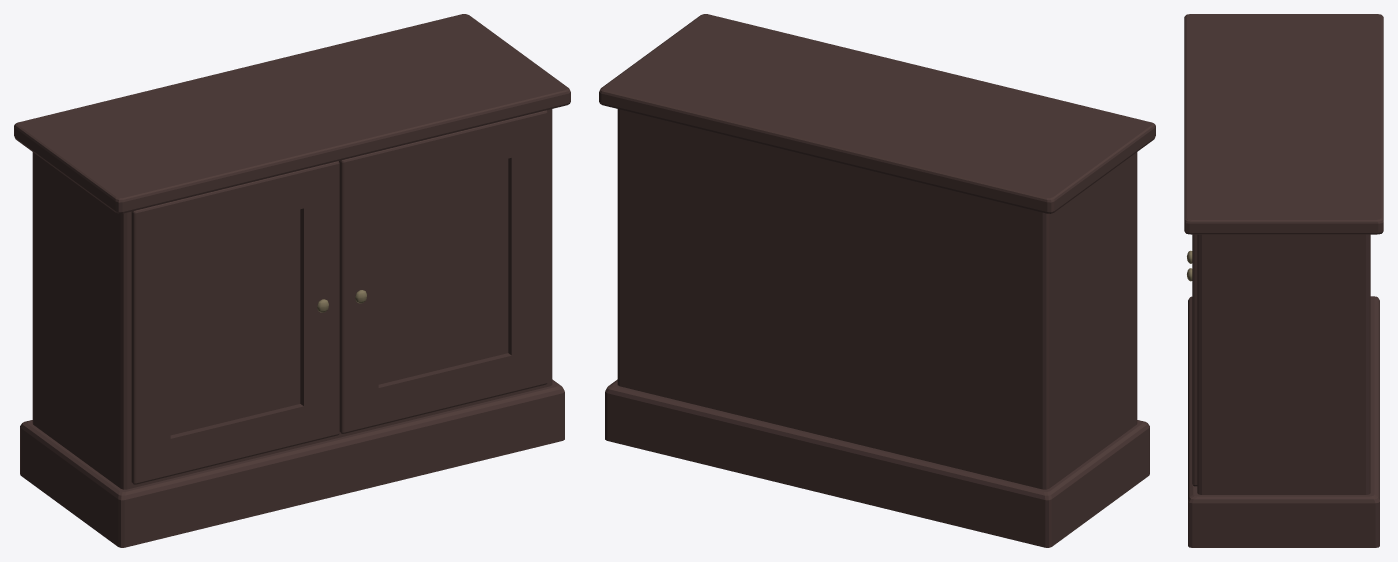
File: cabinet.fbx
The picture shows the model from 3 angles, left to right: view 1: azimuth 30°, elevation 25°; view 2: azimuth 150°, elevation 25°; view 3: azimuth 270°, elevation 25°; orthographic projection. The views are drawn at different scales.
Parts seen in each view (by area): view 1: cabinet; view 2: cabinet; view 3: cabinet.
Boxes of the visible parts, left/top/right/bottom form: cabinet: left=14, top=14, right=570, bottom=547; cabinet: left=599, top=14, right=1155, bottom=547; cabinet: left=1184, top=14, right=1383, bottom=547.
Size of the model in its own units: 277 by 204 by 112.
